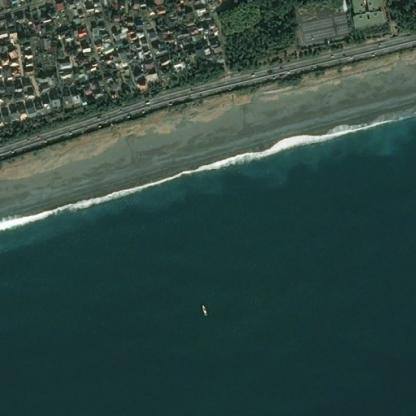ship: (194, 298, 213, 320)
